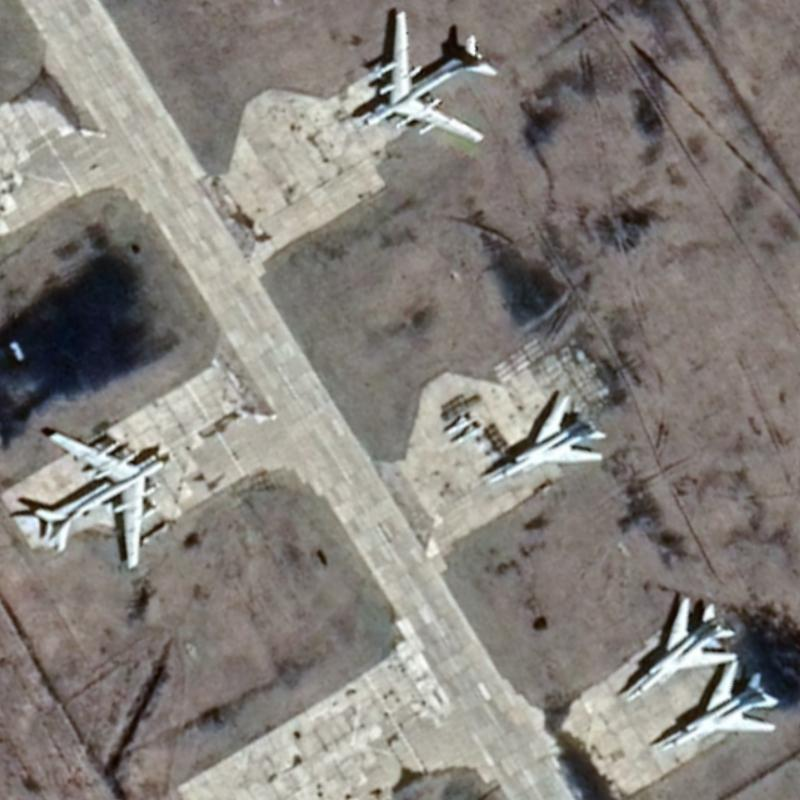A12: (622, 594, 740, 704), (484, 392, 607, 486), (657, 658, 781, 751)
A17: (31, 429, 170, 570), (360, 7, 499, 145)
